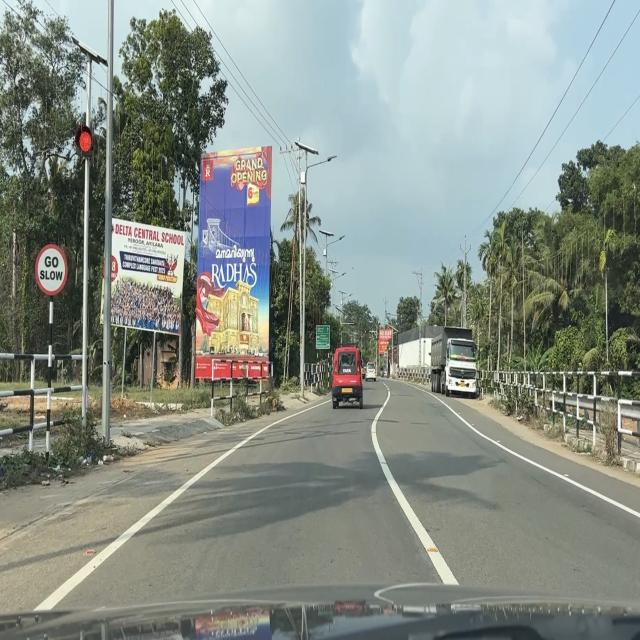GENERAL: (316, 325, 330, 349)
GO_SLOW: (34, 243, 68, 296)
